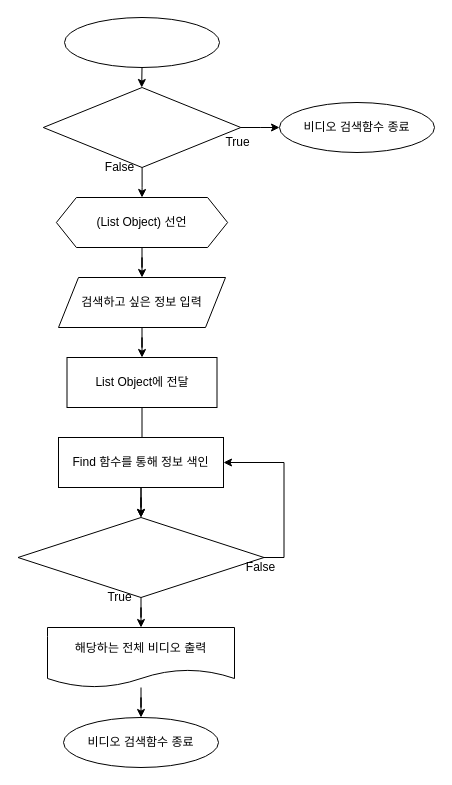
The diagram is 452 pixels wide and 785 high, and some of its shapes have lost their labels. The shapes that lost their labels are listed below. From the top down, each one's box as (x1, y1, x2, y2) in pixels, then its label:
(64, 16, 220, 68): 비디오 검색함수 호출
(42, 86, 241, 168): 리스트가 비어있다면
(17, 516, 264, 598): 해당 Iterator 값이 List의 마지막일 때
